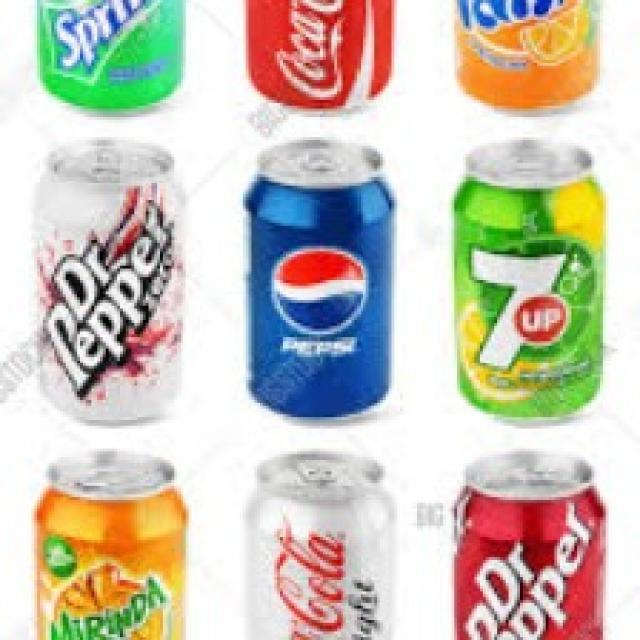metel: (433, 140, 615, 429), (227, 146, 401, 439), (30, 130, 198, 429), (453, 445, 614, 640), (235, 450, 398, 640), (32, 451, 195, 636), (447, 1, 610, 115), (31, 1, 199, 110), (239, 1, 399, 110)
